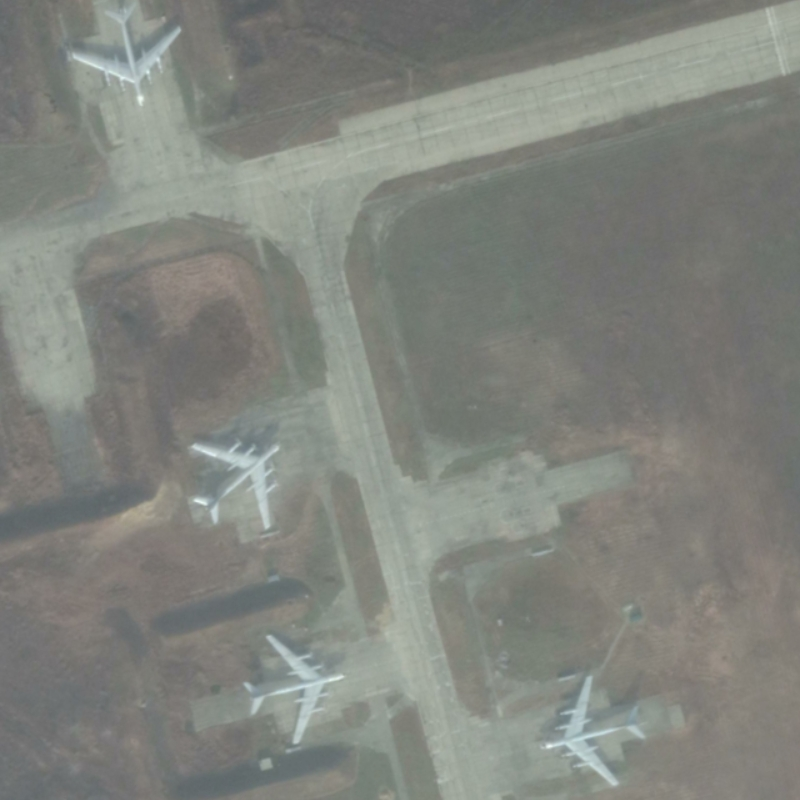A17: (537, 674, 650, 788), (68, 2, 184, 108), (241, 633, 347, 747), (189, 438, 282, 532)
